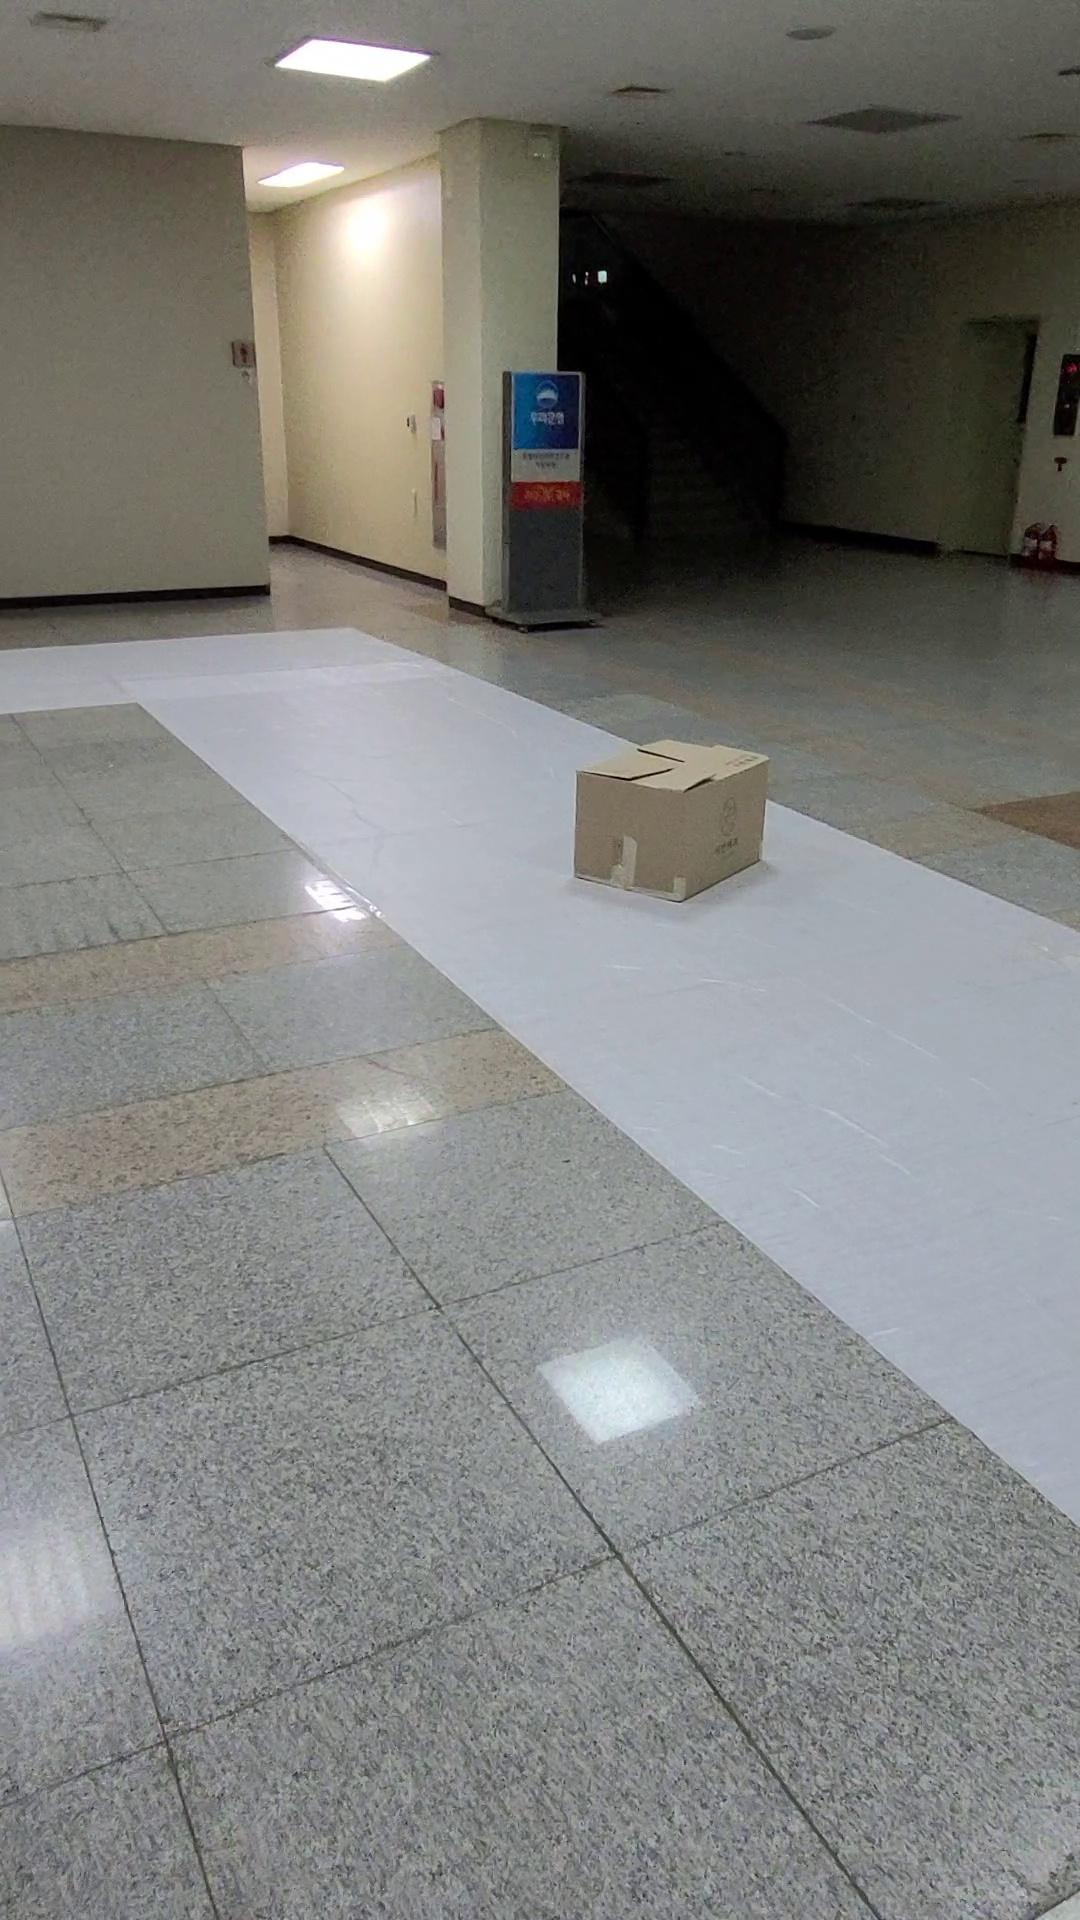Box: (566, 705, 827, 949)
